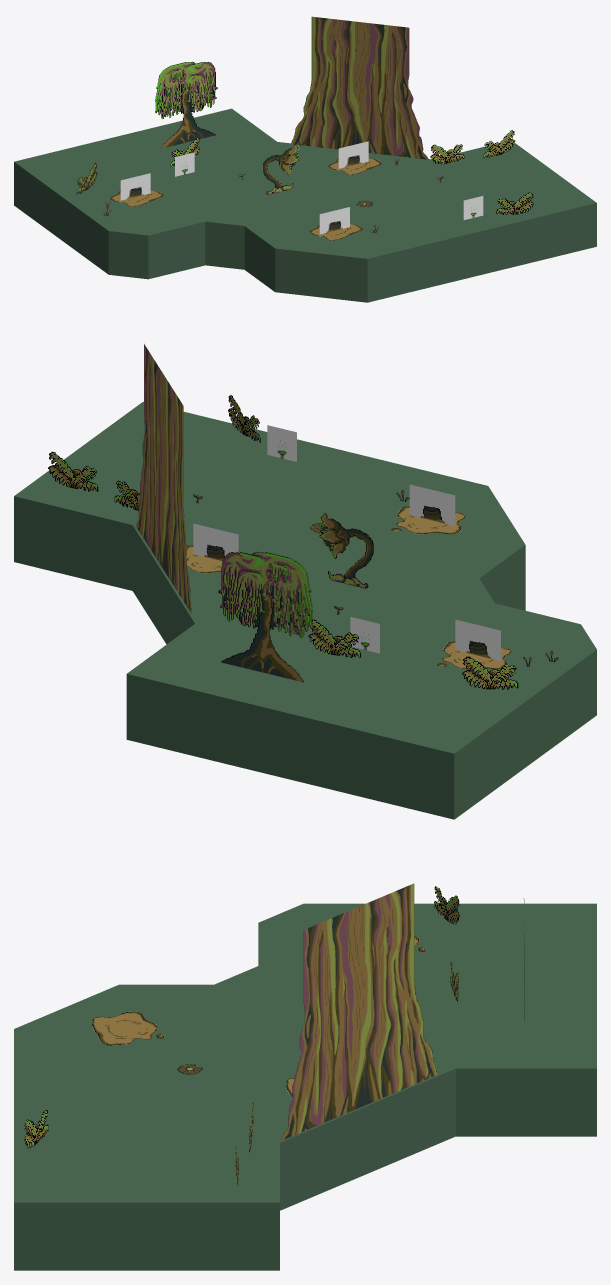
Rendered from Nivel6.fbx.
3 renders of one model, top to bottom at view 1: azimuth 30°, elevation 25°; view 2: azimuth 150°, elevation 25°; view 3: azimuth 270°, elevation 25°, orthographic. The views are drawn at different scales.
Parts seen in each view (by area): view 1: Base 1-6, Sequoia.003, Arbol 3.003, Planta carnivora 9.003, Barril 1.013, Barril 1.011, Barril 1.012, Helecho.056, Helecho.057, Helecho.058, Barro 1.012, Barro 1.011 (+3 smaller); view 2: Base 1-6, Sequoia.003, Arbol 3.003, Planta carnivora 9.003, Barril 1.013, Barril 1.011, Barril 1.012, Helecho.042, Helecho.041, Helecho.058, Barro 1.013, Flor curativa.013 (+3 smaller); view 3: Base 1-6, Sequoia.003, Barro 1.013, Helecho.042.
Part boxes in pixels (x1,y1,x2,y2): Base 1-6: [14, 108, 596, 302]; Sequoia.003: [291, 16, 428, 159]; Arbol 3.003: [155, 61, 217, 148]; Planta carnivora 9.003: [262, 144, 299, 194]; Barril 1.013: [319, 207, 349, 236]; Barril 1.011: [120, 173, 150, 202]; Barril 1.012: [338, 141, 368, 170]; Helecho.056: [496, 192, 533, 214]; Helecho.057: [430, 144, 464, 164]; Helecho.058: [483, 130, 515, 157]; Barro 1.012: [327, 158, 381, 174]; Barro 1.011: [109, 190, 163, 206]; Base 1-6: [14, 402, 596, 819]; Sequoia.003: [136, 344, 191, 613]; Arbol 3.003: [218, 551, 313, 682]; Planta carnivora 9.003: [318, 513, 373, 588]; Barril 1.013: [409, 484, 455, 525]; Barril 1.011: [455, 619, 500, 660]; Barril 1.012: [193, 523, 238, 560]; Helecho.042: [462, 656, 518, 689]; Helecho.041: [308, 619, 360, 657]; Helecho.058: [48, 451, 98, 491]; Barro 1.013: [391, 506, 465, 534]; Flor curativa.013: [267, 425, 296, 461]; Base 1-6: [14, 903, 596, 1270]; Sequoia.003: [281, 883, 437, 1140]; Barro 1.013: [92, 1011, 164, 1045]; Helecho.042: [434, 886, 459, 924].
Size of the model in its own units: 1888 by 793 by 1557.
Materials: 24 (23 with a texture image).
